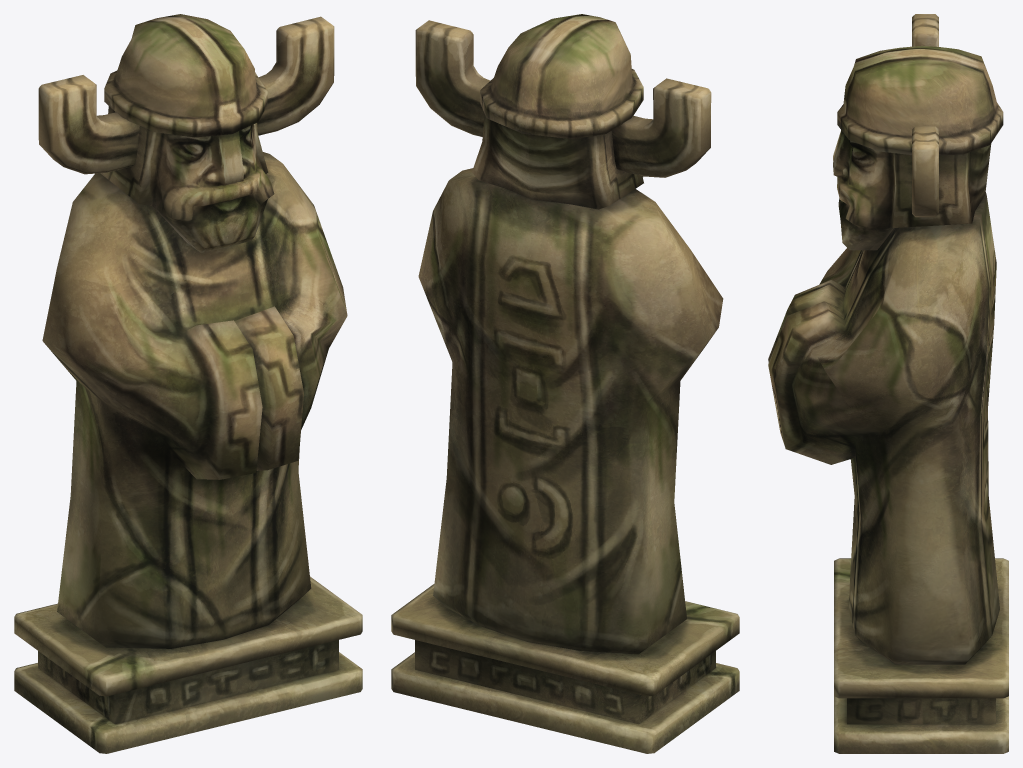
File: statue.FBX
3 renders of one model, left to right at view 1: azimuth 30°, elevation 25°; view 2: azimuth 150°, elevation 25°; view 3: azimuth 270°, elevation 25°, orthographic. The views are drawn at different scales.
Visible parts, largest first — view 1: statue; view 2: statue; view 3: statue.
Part boxes in pixels (x1=…): statue: x1=14, y1=14, x2=362, y2=753; statue: x1=391, y1=14, x2=739, y2=753; statue: x1=768, y1=14, x2=1008, y2=753.
Bounding box in the file's own units: 2.36 × 5.23 × 1.78.
